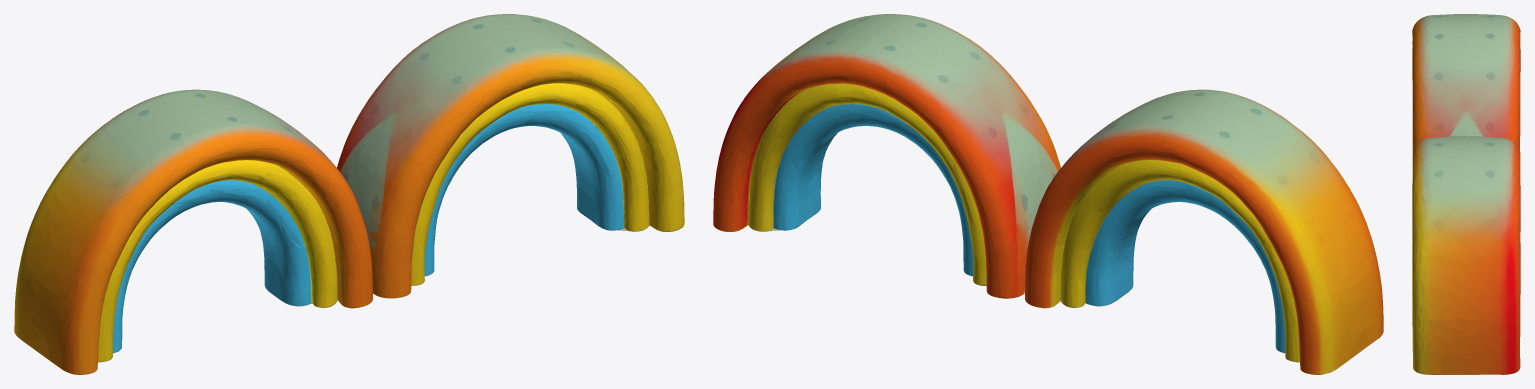
The model's file is meshy-1795742743173.glb.
3 renders of one model, left to right at view 1: azimuth 30°, elevation 25°; view 2: azimuth 150°, elevation 25°; view 3: azimuth 270°, elevation 25°, orthographic. The views are drawn at different scales.
Bounding box in the file's own units: 1.9 × 0.6077 × 0.3585.
Materials: 1 (1 with a texture image).
